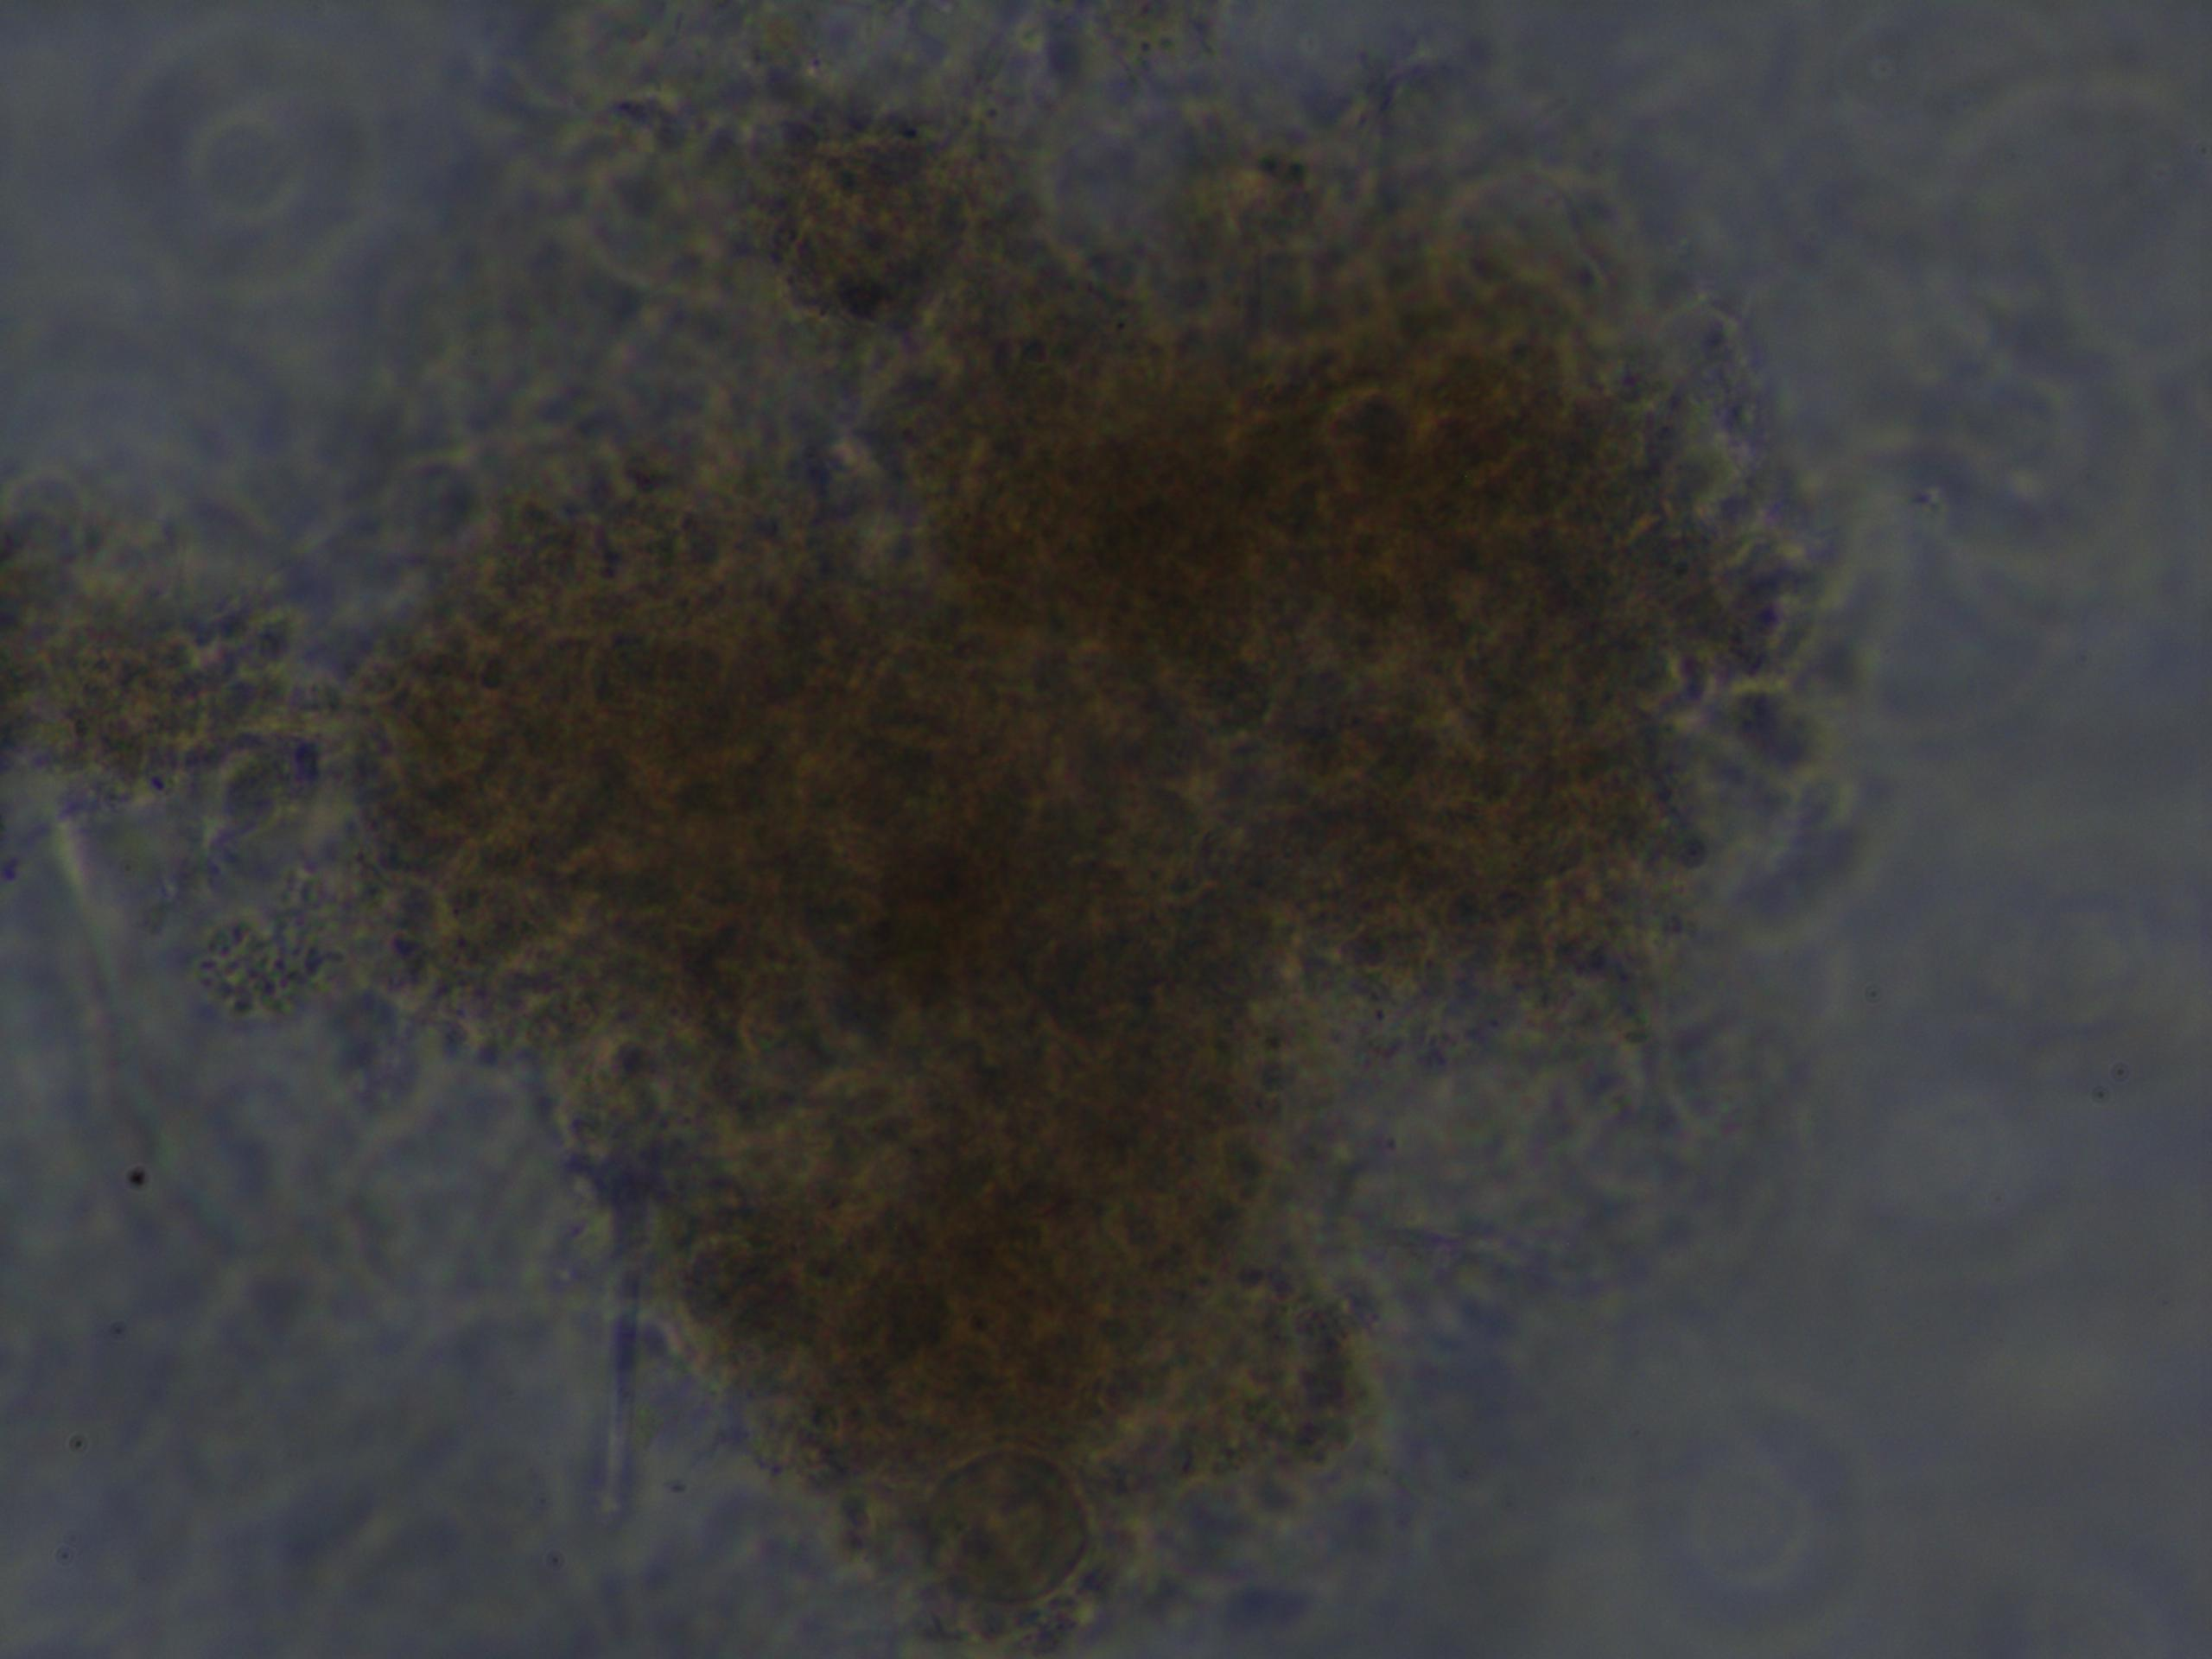spherical_floc: (287, 68, 1834, 1642)
